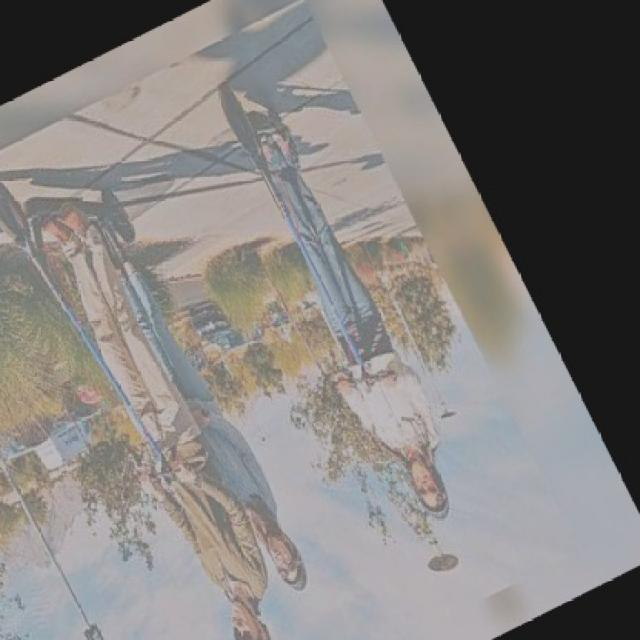helmet: (393, 455, 455, 524), (264, 527, 308, 589), (211, 603, 276, 640)
human: (41, 209, 268, 602), (254, 135, 444, 453), (89, 218, 274, 519)
kickboard: (1, 176, 141, 250), (210, 92, 306, 164)
